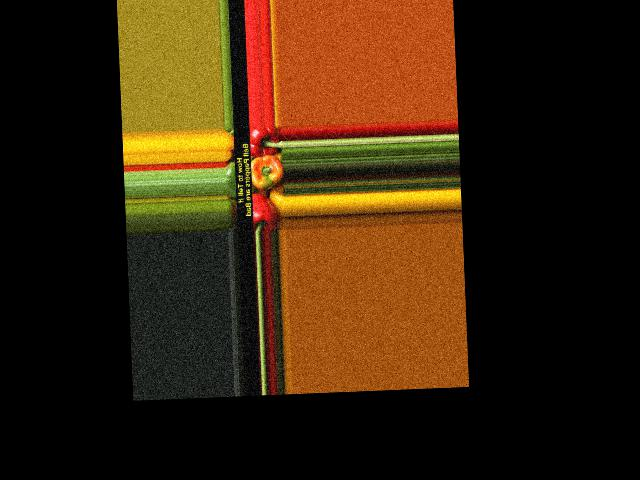bell_pepper: (247, 127, 283, 159)
